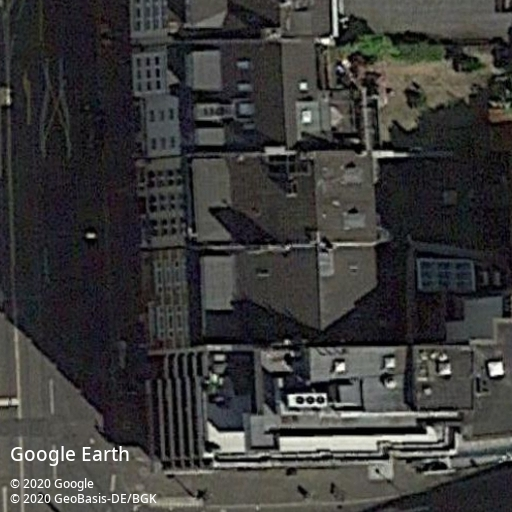Chiller: (286, 392, 329, 409)
